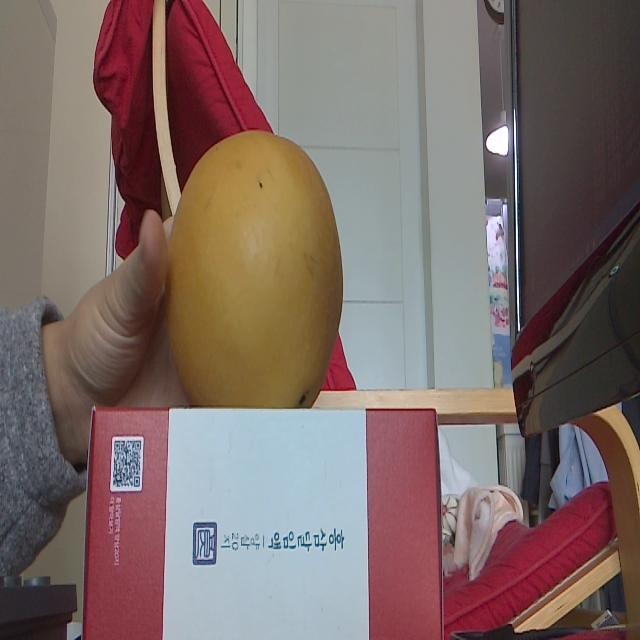pear: (167, 129, 343, 408)
